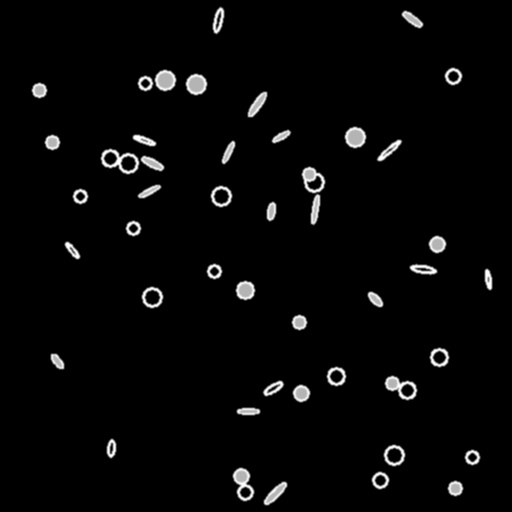pseudomonas: (246, 90, 268, 118), (263, 481, 287, 505), (377, 139, 401, 161), (401, 10, 423, 28), (140, 155, 164, 171), (138, 183, 160, 199), (263, 380, 283, 396), (212, 7, 224, 33), (221, 141, 235, 163), (49, 352, 65, 370), (132, 134, 156, 146), (64, 241, 80, 259), (310, 195, 320, 223), (367, 291, 383, 307), (272, 129, 290, 143), (411, 264, 435, 274), (266, 202, 276, 220), (484, 269, 492, 289), (107, 439, 115, 457), (238, 408, 258, 413)
synechocystis: (346, 128, 364, 146), (305, 173, 323, 191), (156, 71, 174, 89), (212, 187, 230, 205), (385, 446, 403, 464), (143, 288, 161, 306), (187, 75, 205, 93), (119, 154, 137, 172), (328, 368, 344, 384), (102, 150, 118, 166), (431, 349, 447, 365), (399, 382, 415, 398), (237, 282, 253, 298), (430, 237, 444, 251), (238, 485, 252, 499), (446, 69, 460, 83), (294, 386, 308, 400), (373, 473, 387, 487), (234, 469, 248, 483), (33, 84, 45, 96), (293, 316, 305, 328), (386, 377, 398, 389), (208, 265, 220, 277), (449, 482, 461, 494), (303, 168, 315, 180), (466, 451, 478, 463), (127, 222, 139, 234), (74, 190, 86, 202), (46, 136, 58, 148), (139, 77, 151, 89)
